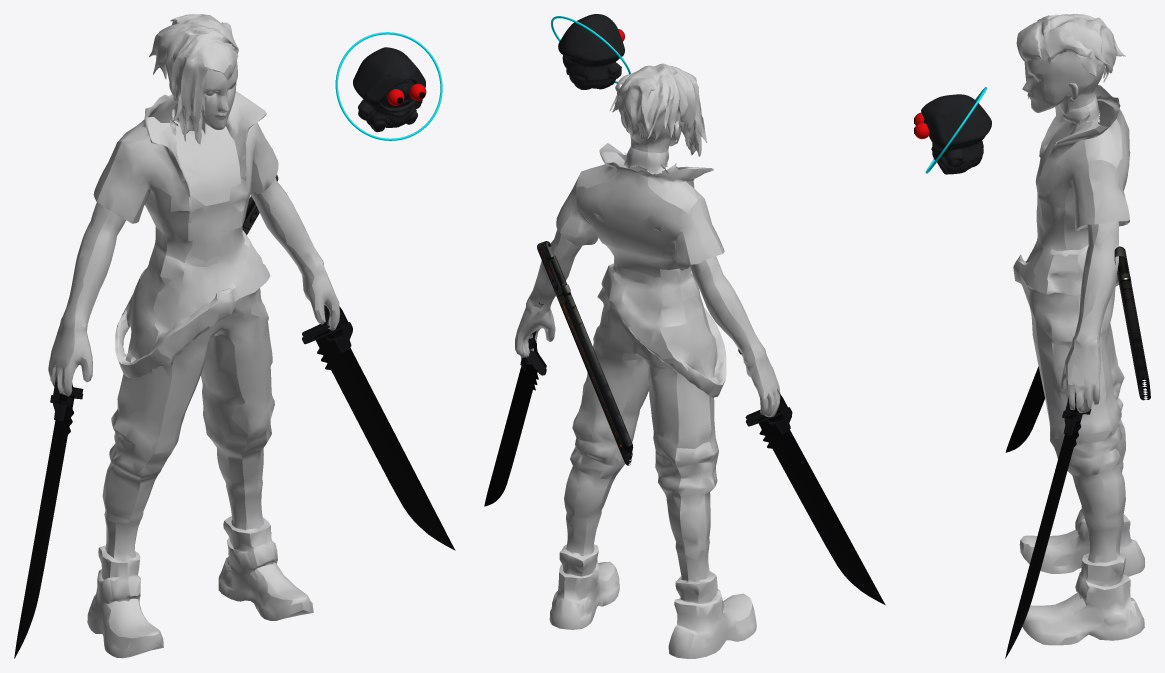
File: Ichiro_2390_Arcane.obj
3 renders of one model, left to right at view 1: azimuth 30°, elevation 25°; view 2: azimuth 150°, elevation 25°; view 3: azimuth 270°, elevation 25°, orthographic. The views are drawn at different scales.
Parts seen in each view (by area): view 1: Ichiro_2390_Character, Ichiro_Magma_Blade_L, Lumen_Core_Hull, Ichiro_Magma_Blade_R, Lumen_Orbital_Ring; view 2: Ichiro_2390_Character, Ichiro_Magma_Blade_R, Lumen_Core_Hull, Ichiro_Scabbard, Ichiro_Magma_Blade_L; view 3: Ichiro_2390_Character, Lumen_Core_Hull, Ichiro_Magma_Blade_L, Ichiro_Scabbard, Ichiro_Magma_Blade_R.
Boxes of the visible parts, x1,y1,x2,y2 form: Ichiro_2390_Character: (48,14,340,658); Ichiro_Magma_Blade_L: (302,305,455,550); Lumen_Core_Hull: (353,47,425,132); Ichiro_Magma_Blade_R: (14,376,83,658); Lumen_Orbital_Ring: (335,32,442,140); Ichiro_2390_Character: (515,63,780,658); Ichiro_Magma_Blade_R: (738,349,885,604); Lumen_Core_Hull: (558,14,624,89); Ichiro_Scabbard: (537,241,633,465); Ichiro_Magma_Blade_L: (484,302,546,506); Ichiro_2390_Character: (1013,14,1144,645); Lumen_Core_Hull: (921,94,991,174); Ichiro_Magma_Blade_L: (1005,392,1091,658); Ichiro_Scabbard: (1114,246,1150,400); Ichiro_Magma_Blade_R: (1005,366,1044,452).
Bounding box in the file's own units: 1.37 × 1.8 × 0.6648.
